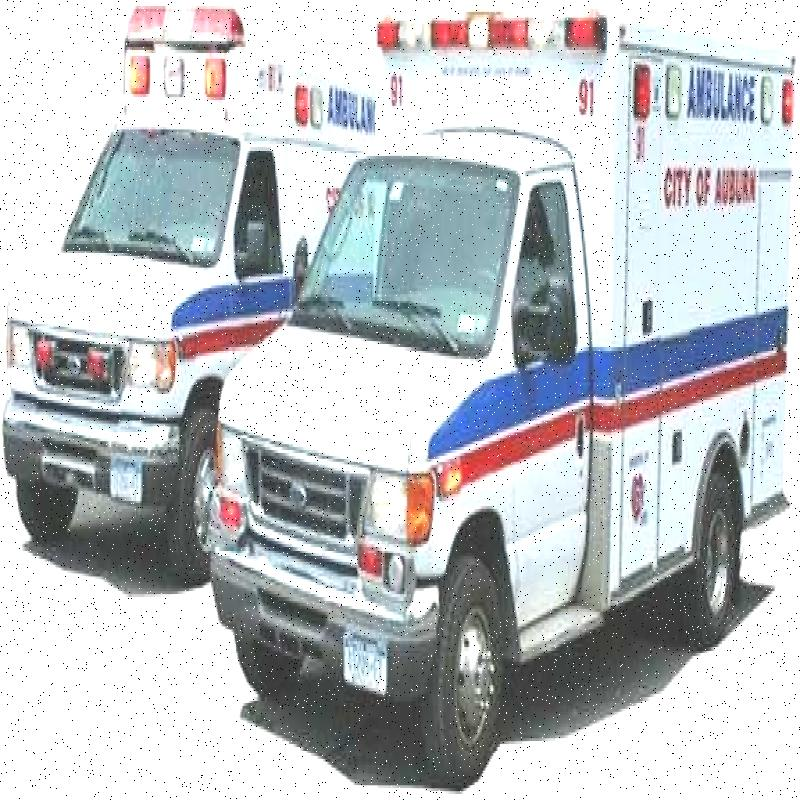AmbulanceSiren: (371, 11, 609, 62), (122, 12, 239, 104)
